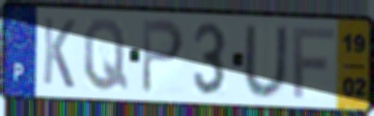3: (191, 20, 230, 99)
F: (290, 26, 336, 101)
K: (41, 15, 77, 92)
P: (140, 18, 186, 97)
Q: (81, 16, 131, 94)
U: (242, 24, 290, 100)
